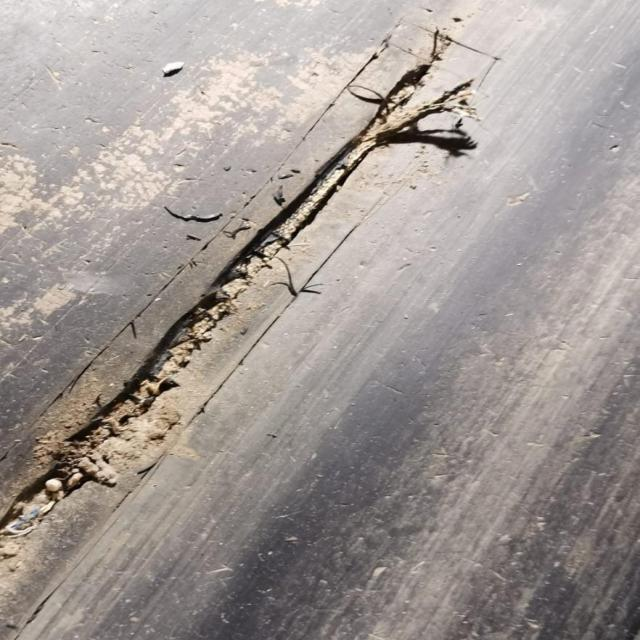Tear: (0, 0, 487, 557)
